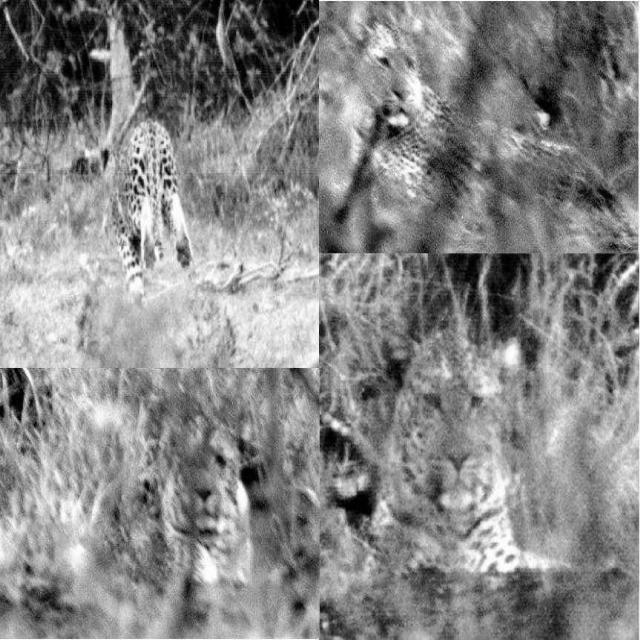Leopard: (316, 15, 635, 254), (357, 313, 531, 570), (81, 378, 258, 630), (49, 120, 220, 320)
